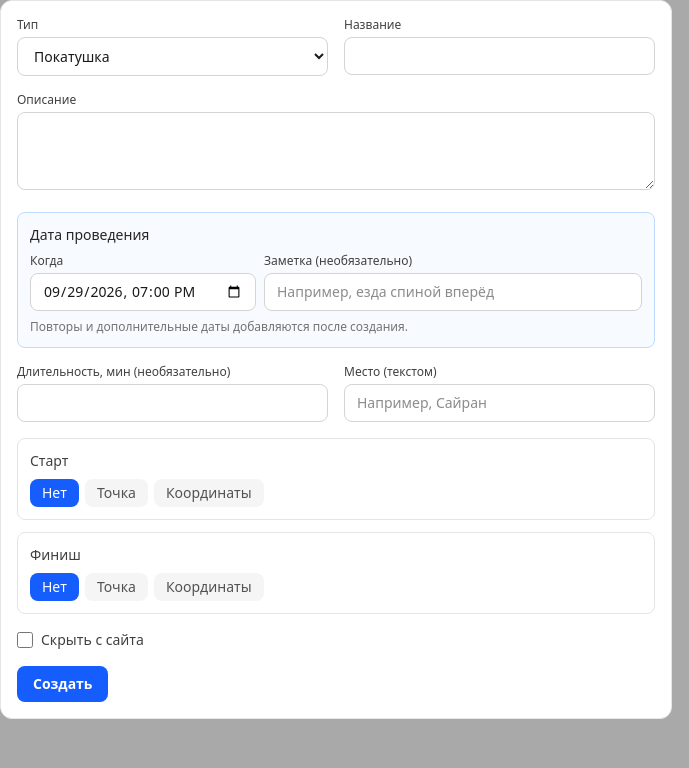
Test: EventForm — первая дата при создании › короткое название не проходит валидацию раньше проверки даты
This screenshot has width=689, height=768.
In the field labelled "Название": coordinates (500, 56) [344,37,655,75], type "Ку"
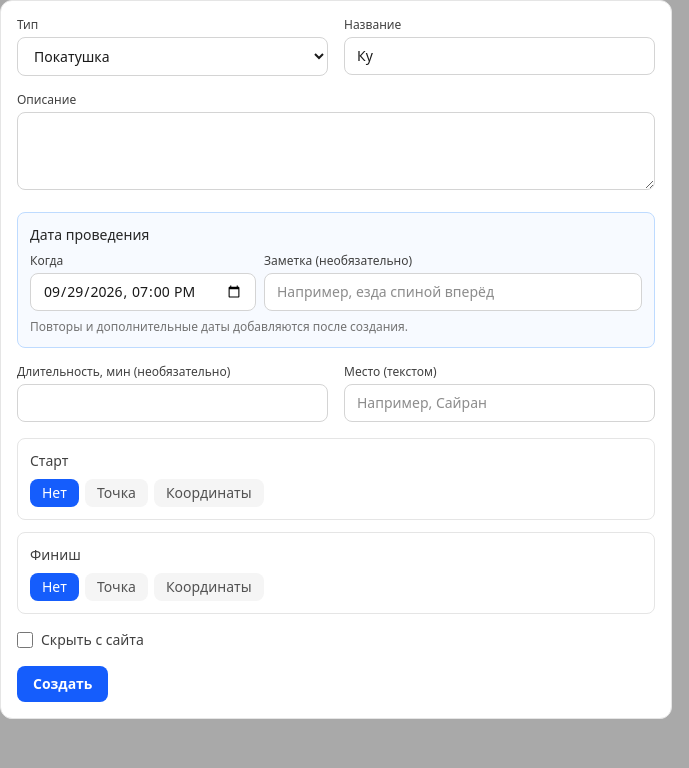
Click the button "Создать": coordinates (63, 684) [17,666,108,702]
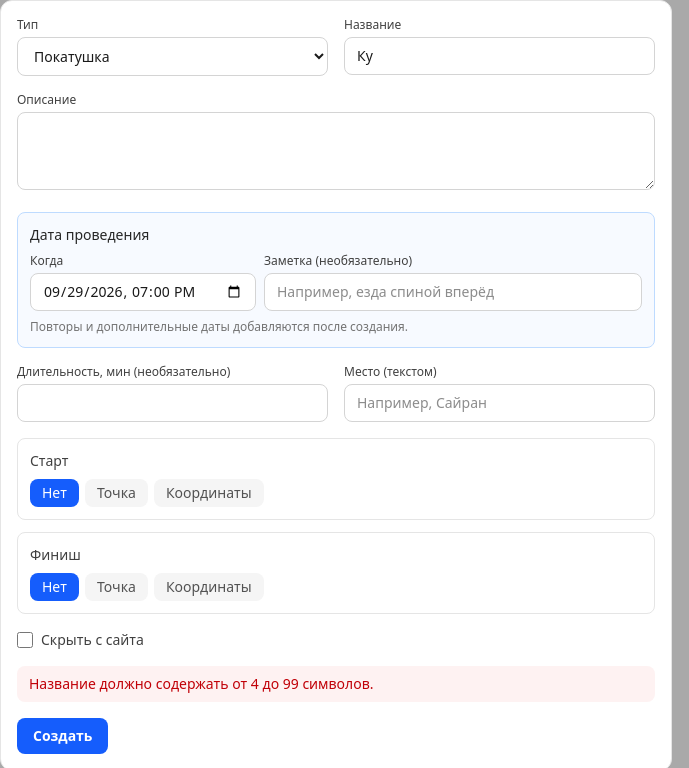
Check: the text "Название должно содержать от 4 до 99 символов." is shown, box [17,666,655,702]
